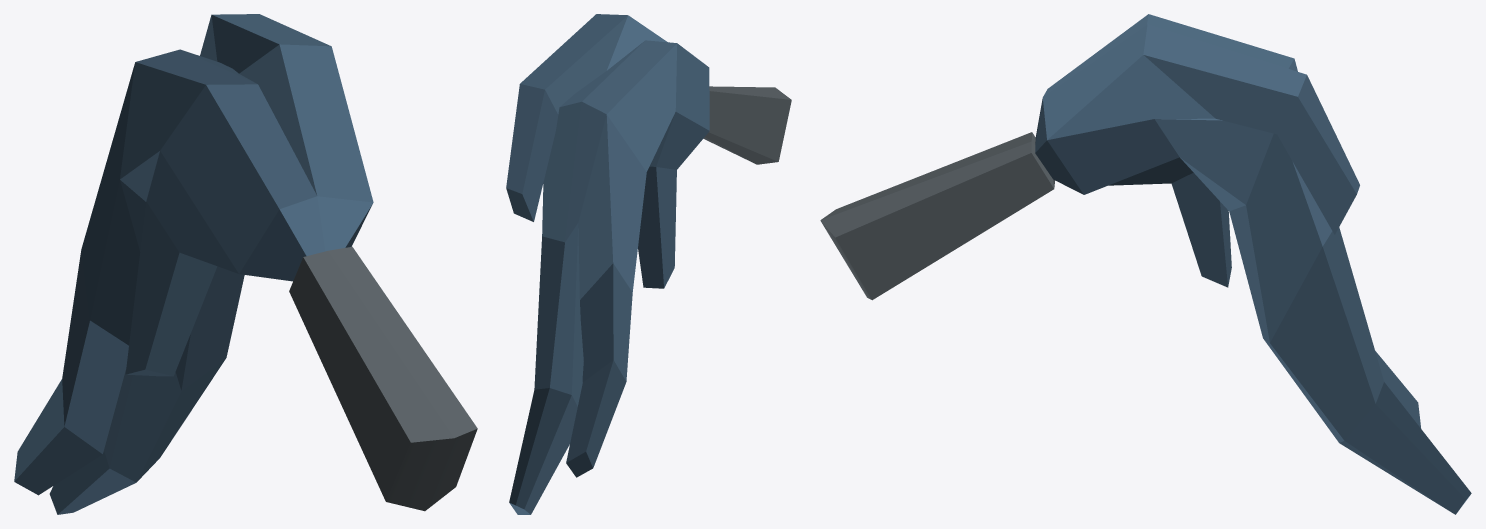
The model's file is Chr_HelmetAttachment_02_Static.fbx.
3 views of the same model, side by side, from view 1: azimuth 30°, elevation 25°; view 2: azimuth 150°, elevation 25°; view 3: azimuth 270°, elevation 25° (orthographic). The views are drawn at different scales.
Visible parts, largest first — view 1: Chr_HelmetAttachment_02_Static; view 2: Chr_HelmetAttachment_02_Static; view 3: Chr_HelmetAttachment_02_Static.
Part boxes in pixels (x1,y1,x2,y2): Chr_HelmetAttachment_02_Static: (14, 14, 477, 514); Chr_HelmetAttachment_02_Static: (506, 14, 791, 514); Chr_HelmetAttachment_02_Static: (820, 14, 1471, 514).
Size of the model in its own units: 0.1224 by 0.3935 by 0.4654.
